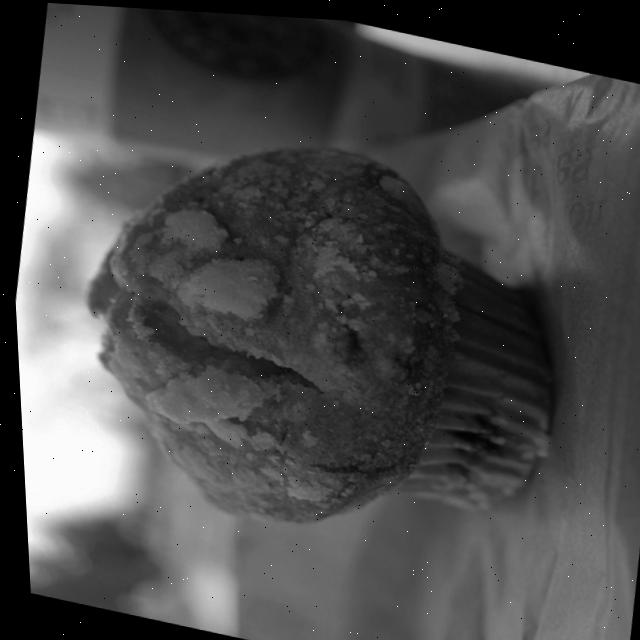炸货点心: (15, 71, 612, 608)
面包点心: (15, 71, 612, 608)
